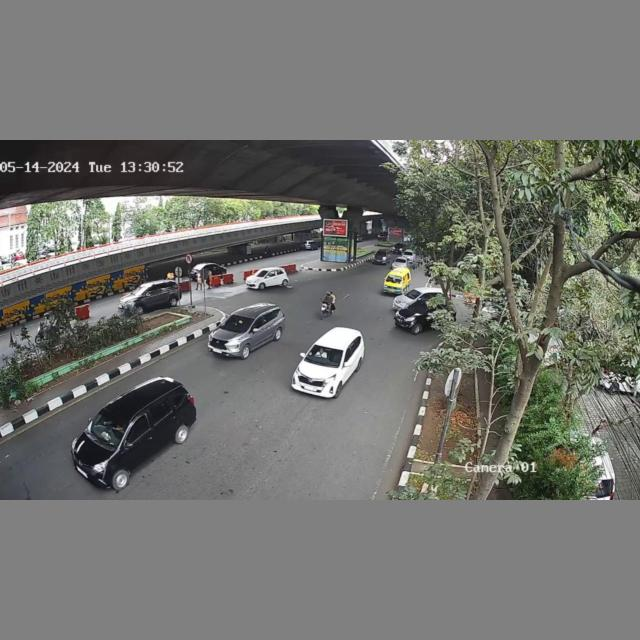windshield: (87, 408, 134, 451), (309, 343, 341, 368), (220, 315, 253, 334)
